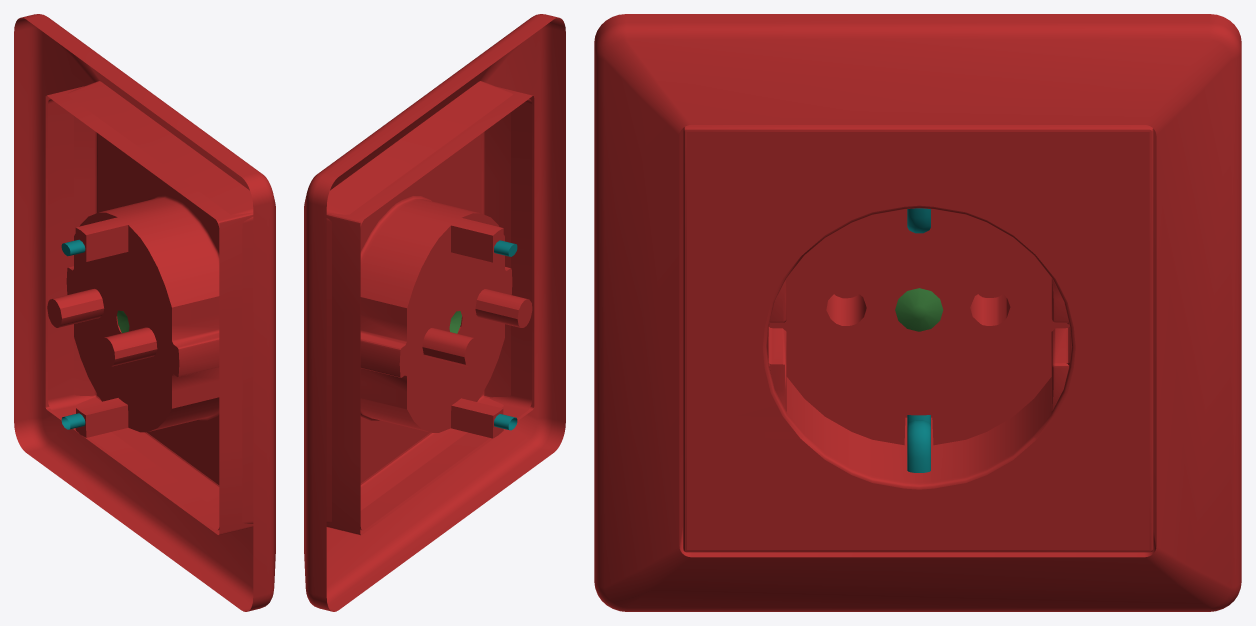
File: SM_Socket_025.fbx
3 renders of one model, left to right at view 1: azimuth 30°, elevation 25°; view 2: azimuth 150°, elevation 25°; view 3: azimuth 270°, elevation 25°, orthographic. The views are drawn at different scales.
Visible parts, largest first — view 1: SM_Socket_025; view 2: SM_Socket_025; view 3: SM_Socket_025.
Boxes of the visible parts, left/top/right/bottom form: SM_Socket_025: left=14, top=14, right=275, bottom=611; SM_Socket_025: left=304, top=14, right=565, bottom=611; SM_Socket_025: left=594, top=14, right=1241, bottom=611.
Size of the model in its own units: 2.3 by 8.05 by 8.05.
